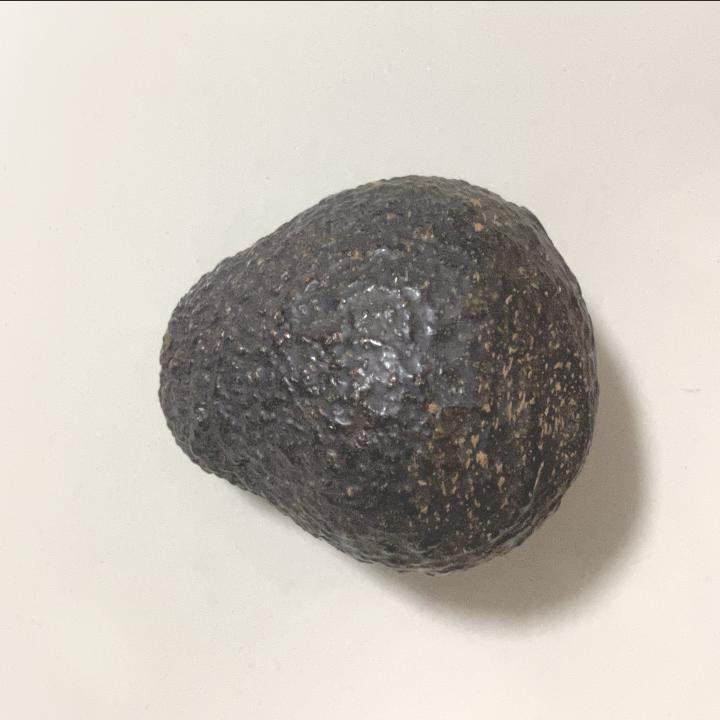Level3: (147, 159, 608, 587)
